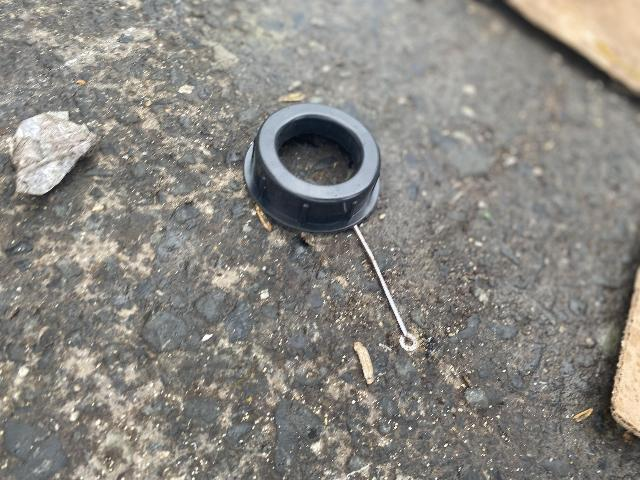Kagit: (500, 0, 640, 103), (3, 116, 121, 197), (605, 267, 640, 432)
Plastik: (244, 108, 390, 222)
